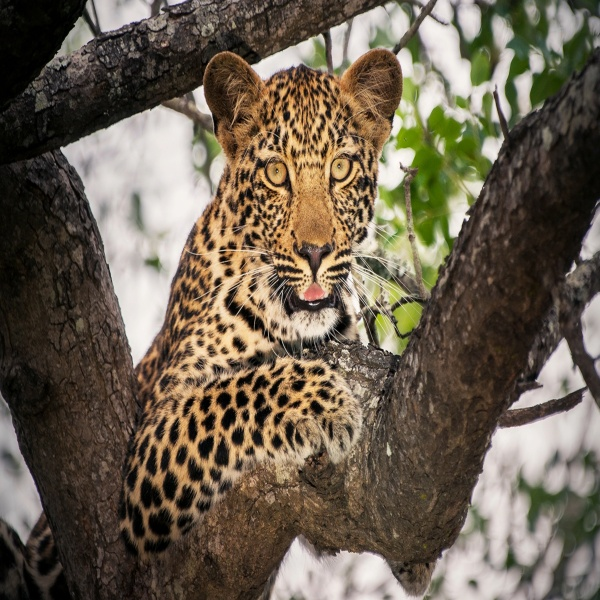Leopard: (115, 44, 410, 553)
